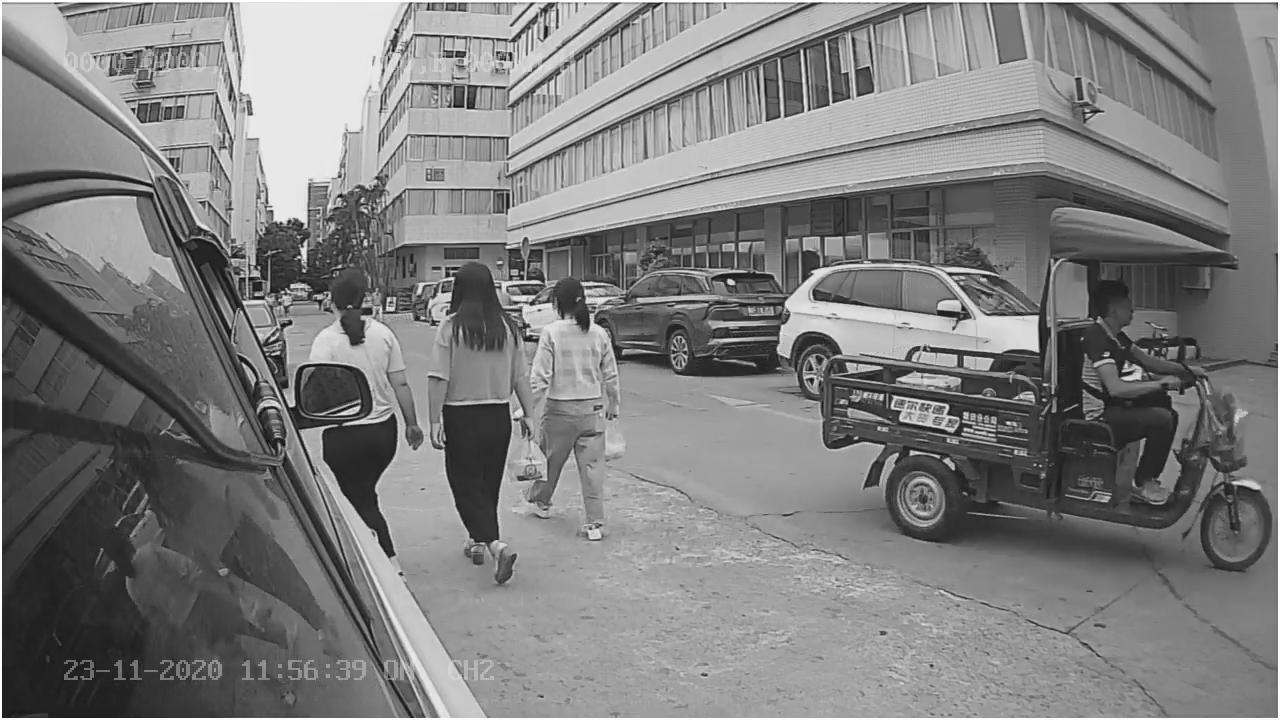person: (417, 254, 529, 583), (521, 278, 631, 544)
